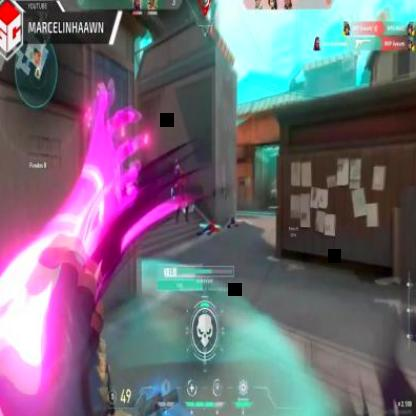enemy: (172, 158, 188, 222)
enemy_head: (175, 158, 179, 168)
